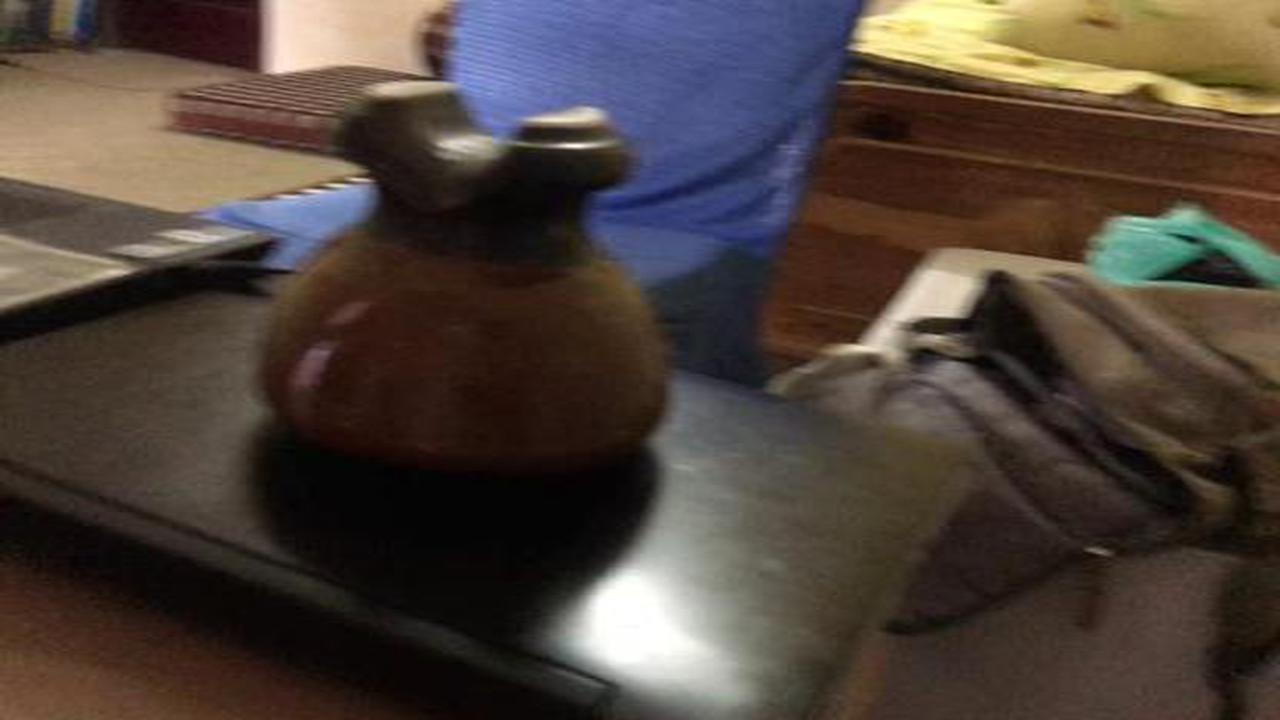insulator_pin: (210, 66, 702, 504)
